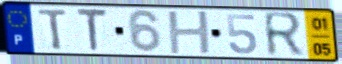5: (224, 12, 259, 56)
6: (125, 8, 166, 56)
H: (166, 10, 215, 56)
R: (261, 10, 306, 59)
T: (75, 7, 110, 53), (36, 8, 70, 52)
